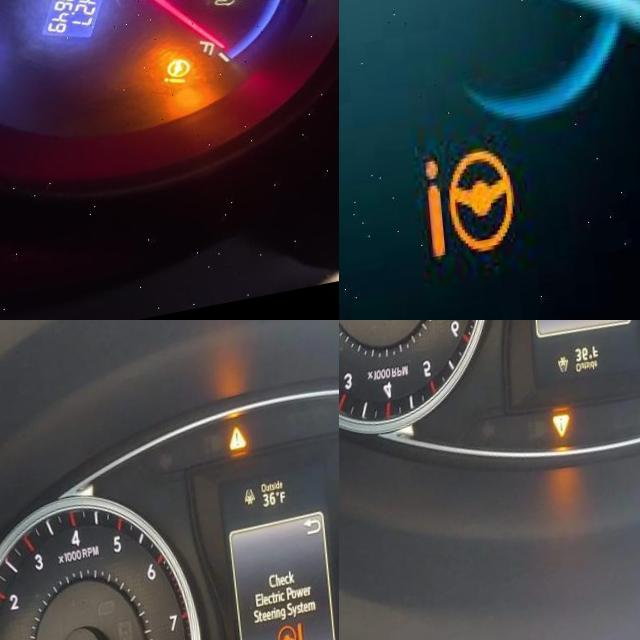Electronic Power Steering: (261, 630, 298, 640)
Electronic Power Steering Warning: (415, 153, 507, 265), (146, 65, 187, 104)
